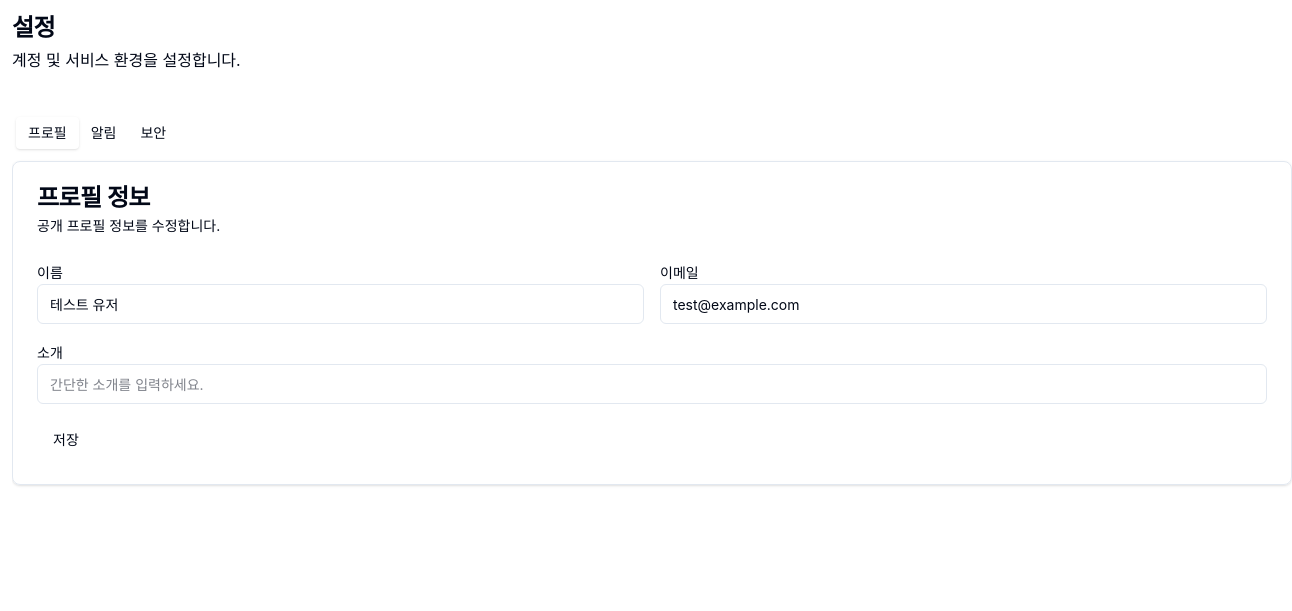
Test: SettingsPage › security tab › shows error when new passwords do not match
Click the tab "보안" at (153, 133), box 128,117 -> 178,149
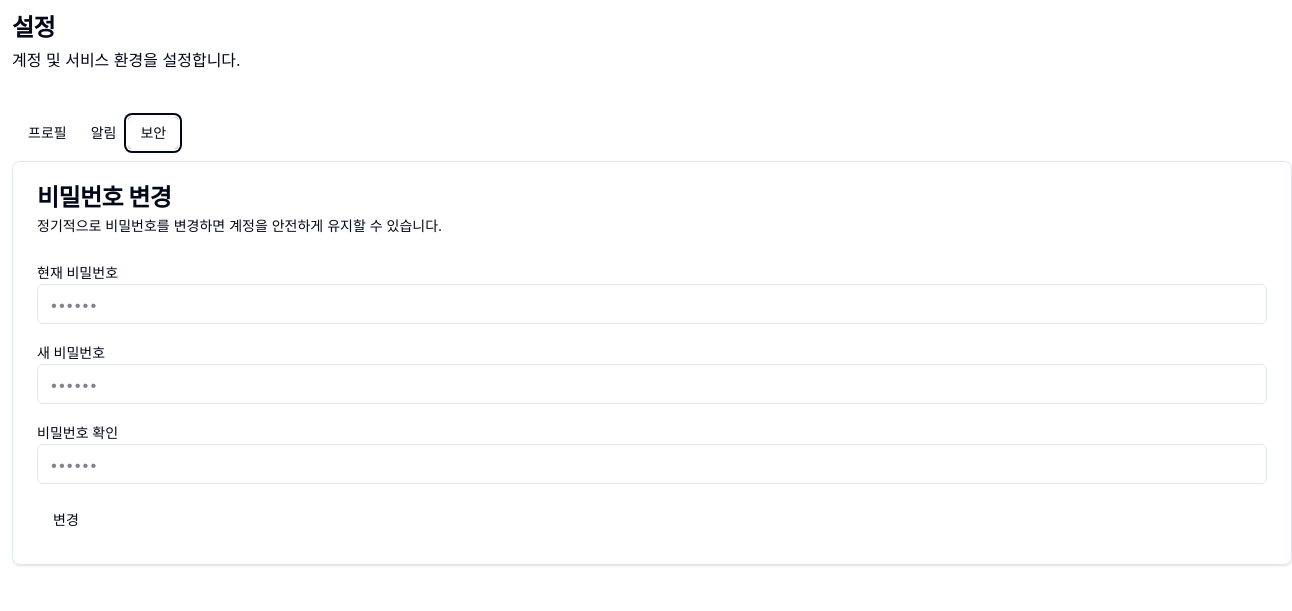
Type "currentpass" into the password field labelled "현재 비밀번호" at (652, 304), box 37,284 -> 1267,324
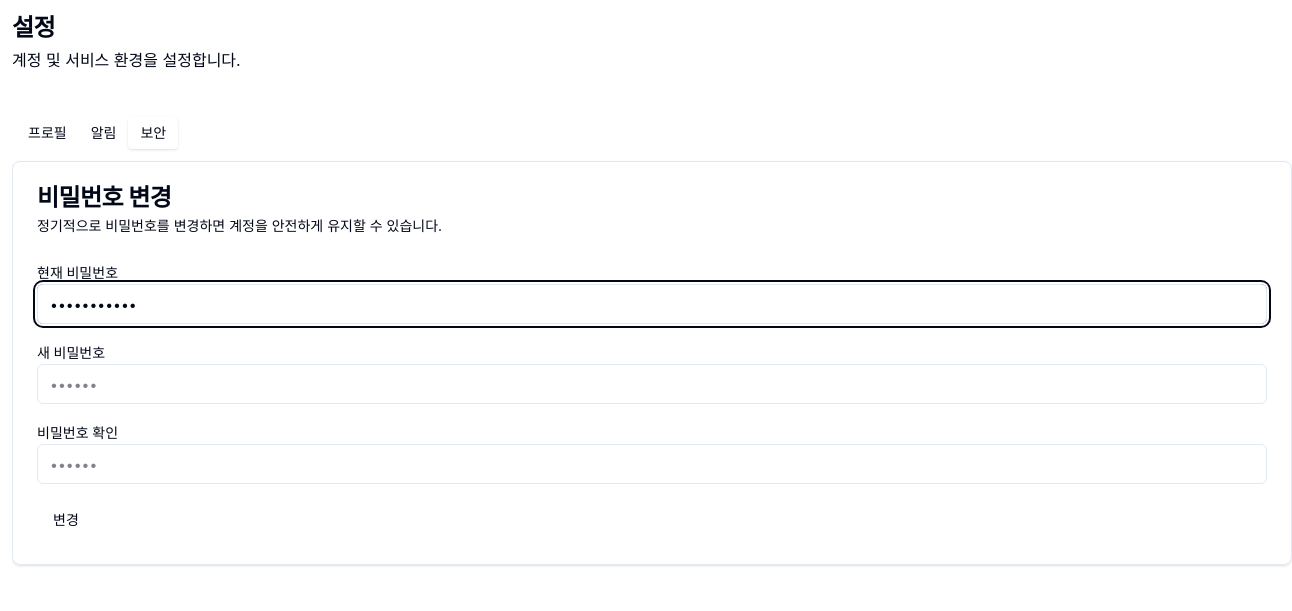
Type "newpassword1" into the password field labelled "새 비밀번호" at (652, 384), box 37,364 -> 1267,404
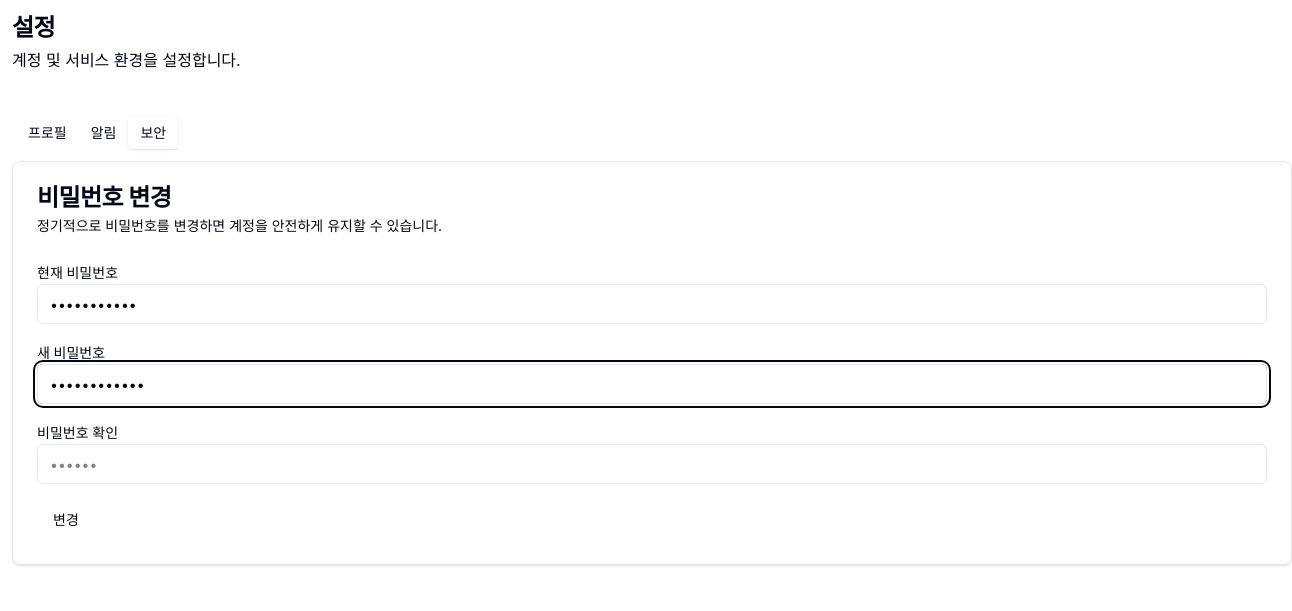
Type "differentpassword" into the password field labelled "비밀번호 확인" at (652, 464), box 37,444 -> 1267,484
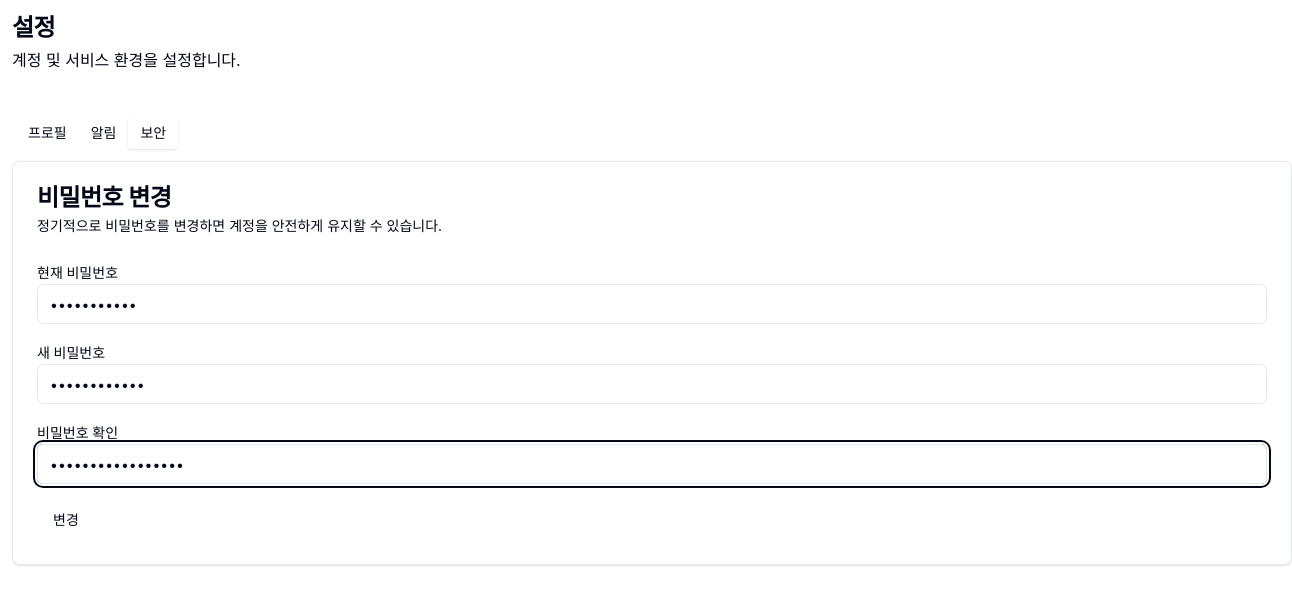
Click the button "변경" at (66, 520), box 37,500 -> 95,540
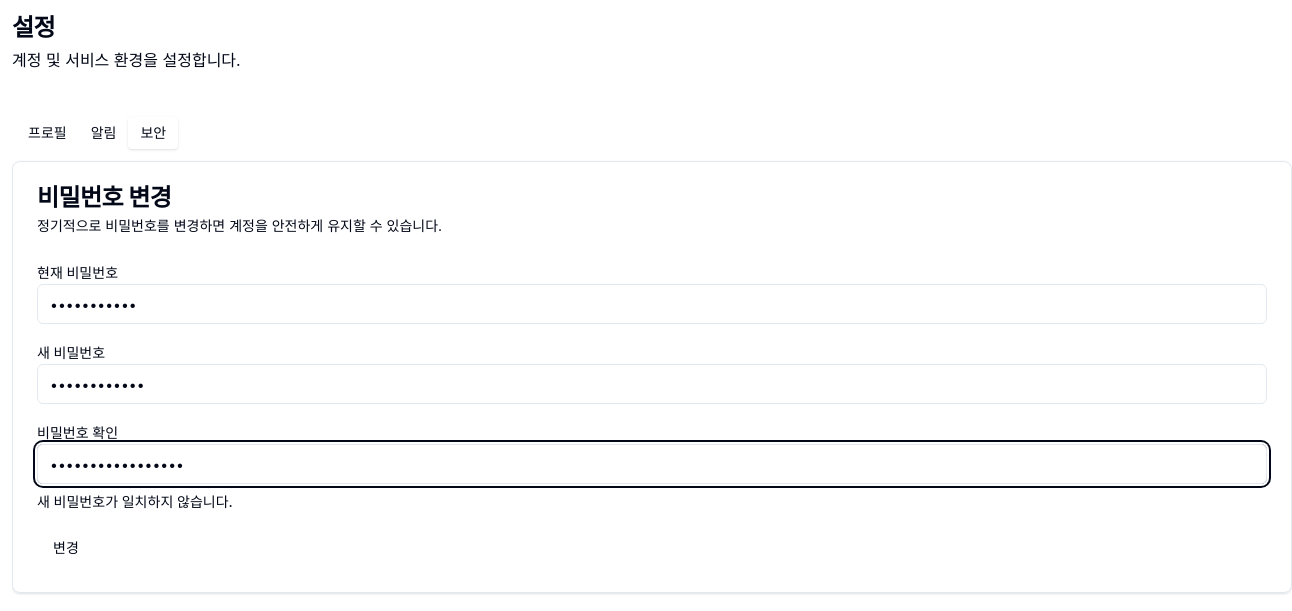
Check: the text "새 비밀번호가 일치하지 않습니다." is shown, box 37,493 -> 233,510
